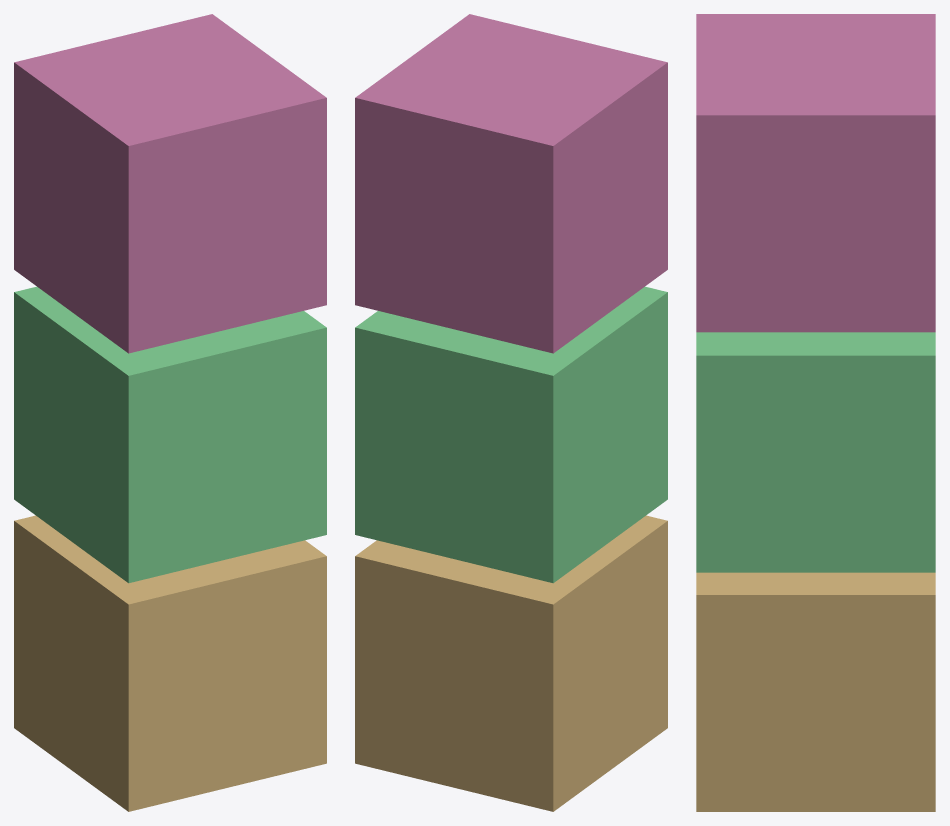
3 views of the same model, side by side, from view 1: azimuth 30°, elevation 25°; view 2: azimuth 150°, elevation 25°; view 3: azimuth 270°, elevation 25° (orthographic). The views are drawn at different scales.
Parts seen in each view (by area): view 1: Box3, Box2, Box1; view 2: Box3, Box2, Box1; view 3: Box3, Box2, Box1.
Part boxes in pixels (bbox=[...]): Box3: bbox=[14, 14, 326, 353]; Box2: bbox=[14, 286, 326, 583]; Box1: bbox=[14, 515, 326, 811]; Box3: bbox=[355, 14, 667, 353]; Box2: bbox=[355, 286, 667, 583]; Box1: bbox=[355, 515, 667, 811]; Box3: bbox=[696, 14, 935, 332]; Box2: bbox=[696, 332, 935, 572]; Box1: bbox=[696, 572, 935, 811].
Bounding box in the file's own units: 100 × 321 × 100.
